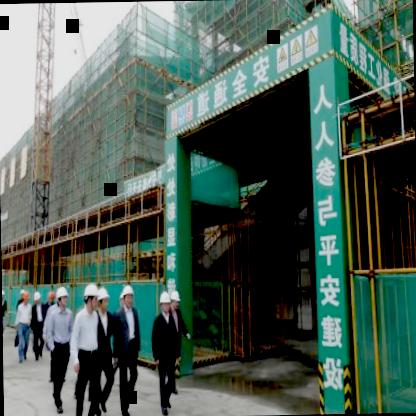helmet: (82, 279, 102, 312), (54, 280, 70, 310), (98, 286, 112, 315), (158, 288, 172, 316), (122, 283, 136, 309), (170, 286, 181, 312), (32, 288, 42, 307), (47, 288, 56, 304), (22, 288, 30, 304)
